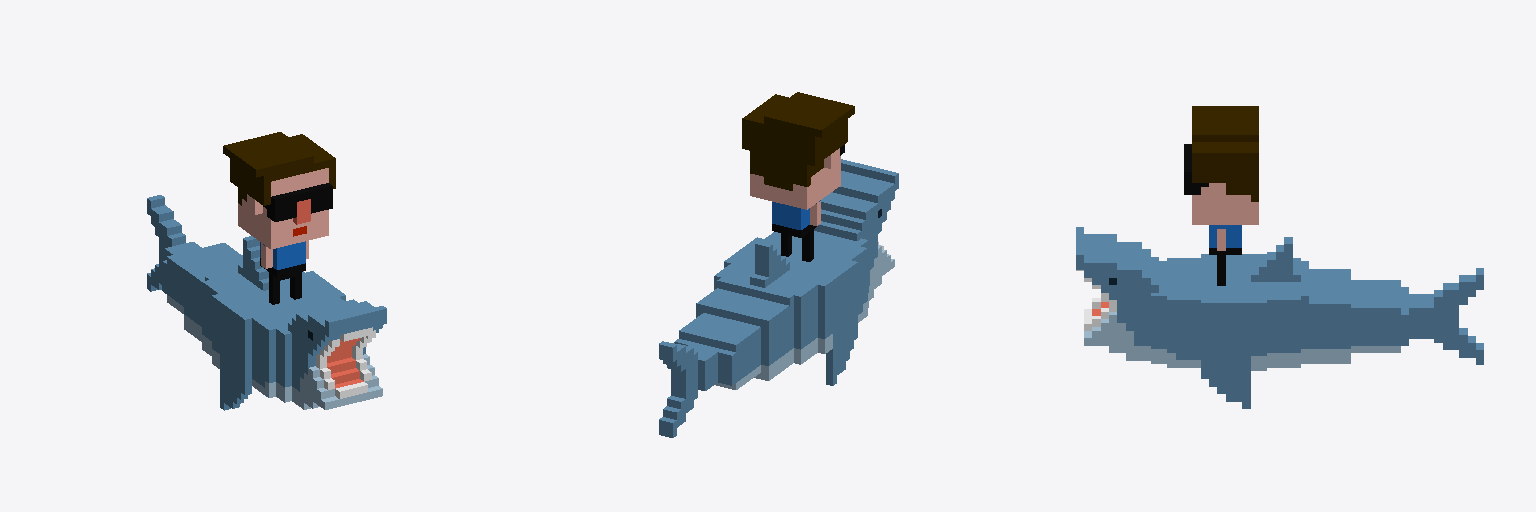
The picture shows the model from 3 angles: view 1: azimuth 30°, elevation 25°; view 2: azimuth 150°, elevation 25°; view 3: azimuth 270°, elevation 25°; orthographic projection.
Visible parts, largest first — view 1: Matrix_1, Matrix; view 2: Matrix_1, Matrix; view 3: Matrix_1, Matrix.
Boxes of the visible parts, x1=… form: Matrix_1: x1=147, y1=195, x2=386, y2=410; Matrix: x1=223, y1=132, x2=335, y2=304; Matrix_1: x1=659, y1=159, x2=898, y2=437; Matrix: x1=742, y1=92, x2=854, y2=261; Matrix_1: x1=1076, y1=227, x2=1483, y2=408; Matrix: x1=1184, y1=106, x2=1258, y2=285.
Size of the model in its own units: 14 by 34 by 49.
Materials: 1 (1 with a texture image).